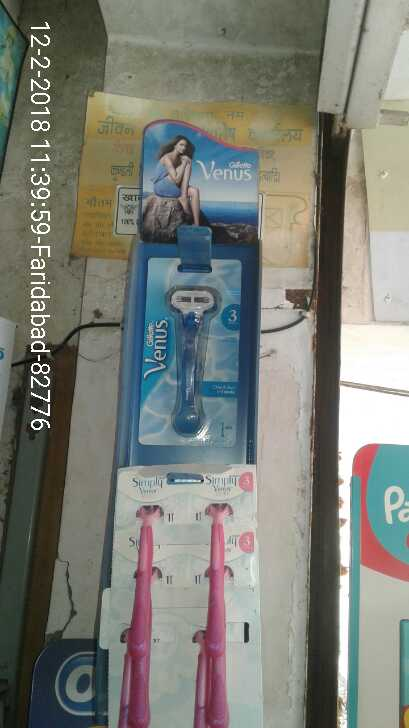venus: (137, 255, 244, 455)
